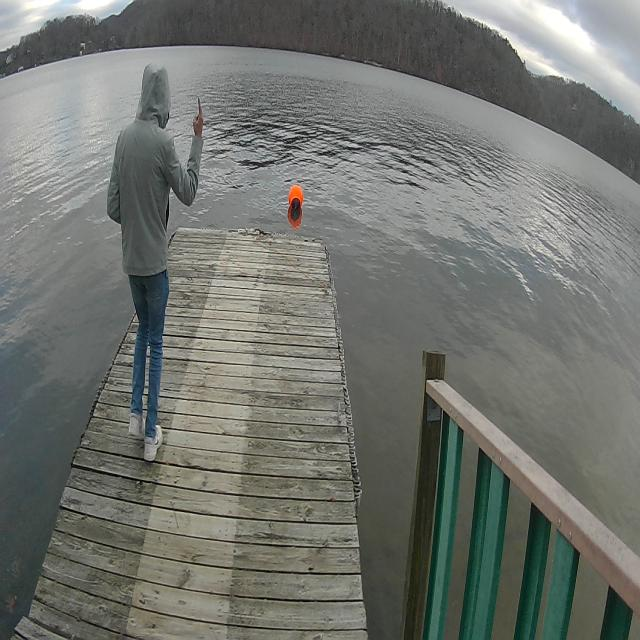Buoy: (288, 184, 304, 214)
